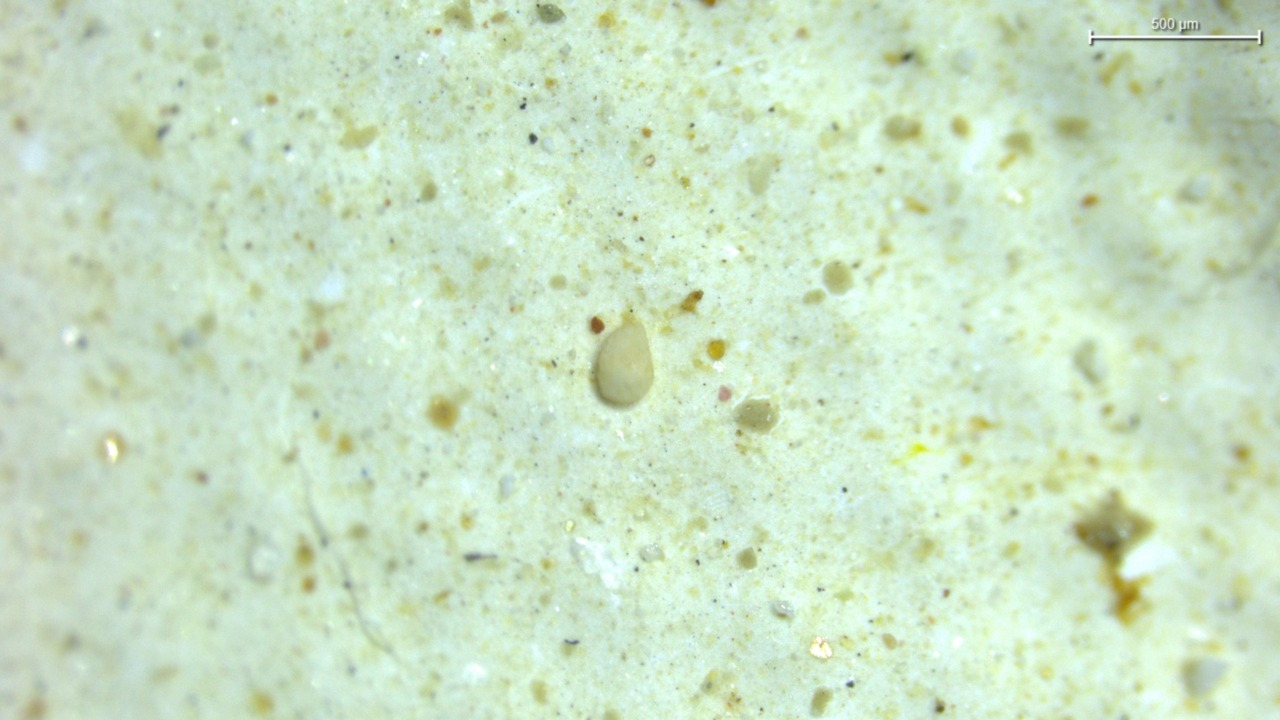microplastic_fragment: (595, 323, 654, 406)
